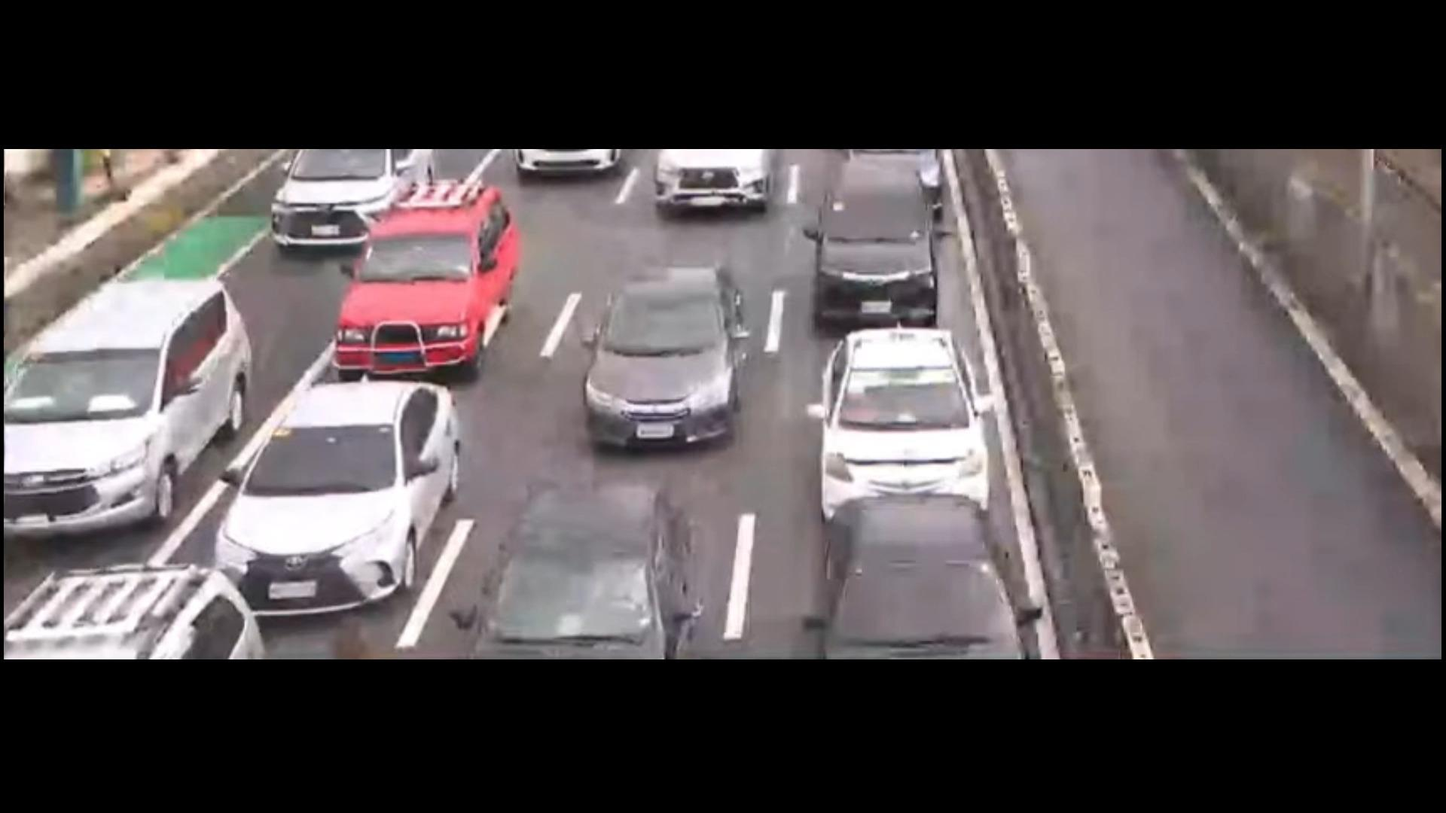SUV: (0, 256, 268, 547), (457, 471, 718, 654), (325, 168, 524, 399), (799, 172, 961, 333)
Sedan: (189, 356, 458, 618), (557, 247, 765, 468), (795, 326, 989, 520), (793, 499, 1036, 652)
